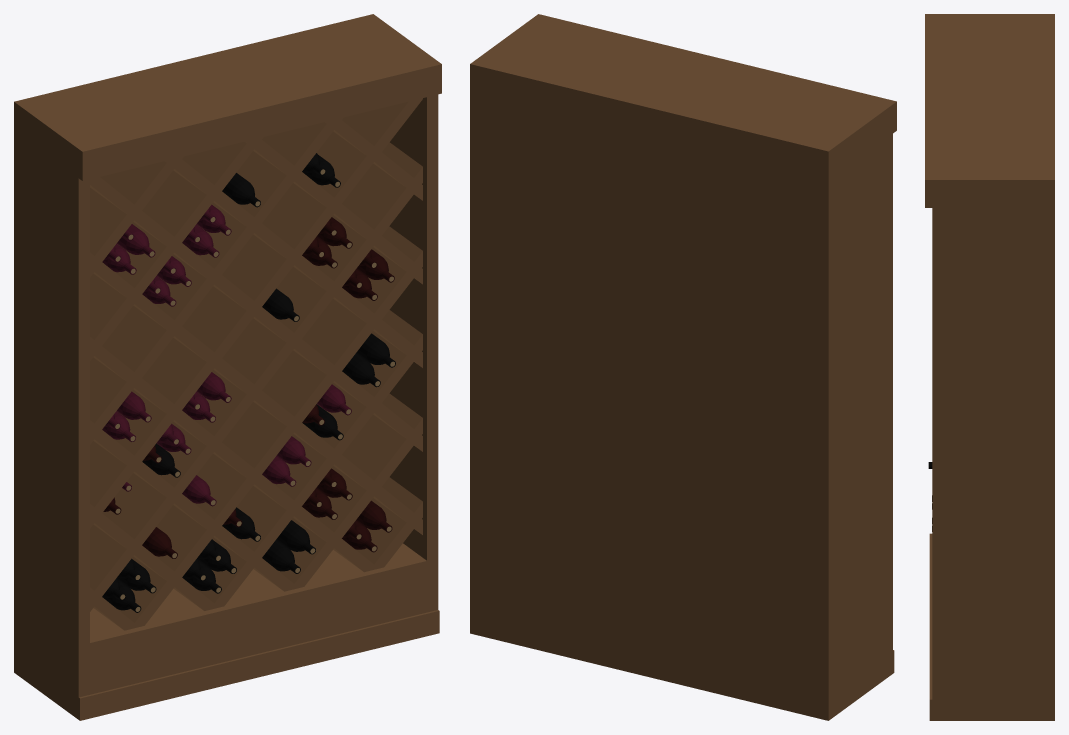
The model's file is Wineshelf_001.fbx.
3 views of the same model, side by side, from view 1: azimuth 30°, elevation 25°; view 2: azimuth 150°, elevation 25°; view 3: azimuth 270°, elevation 25° (orthographic). The views are drawn at different scales.
Visible parts, largest first — view 1: wineshelf_001; view 2: wineshelf_001; view 3: wineshelf_001.
Boxes of the visible parts, bbox=[...] form: wineshelf_001: bbox=[14, 14, 441, 720]; wineshelf_001: bbox=[470, 14, 896, 720]; wineshelf_001: bbox=[925, 14, 1054, 720].
Bounding box in the file's own units: 200 × 304 × 66.07.
